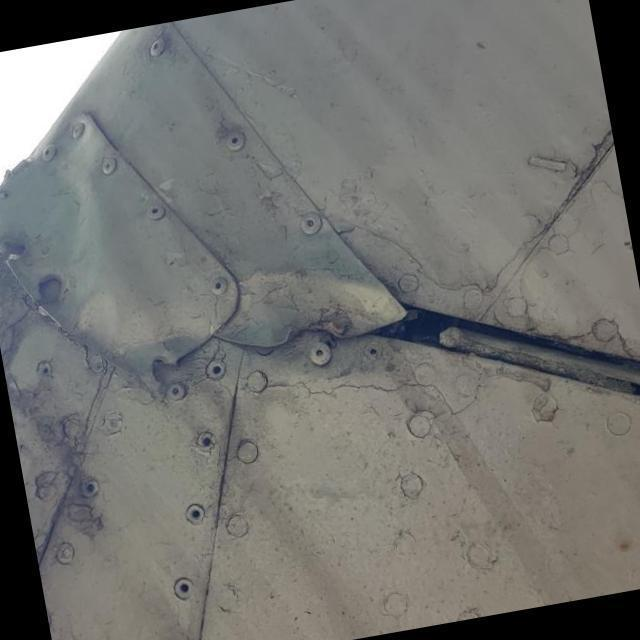Rupture: (262, 304, 358, 358)
